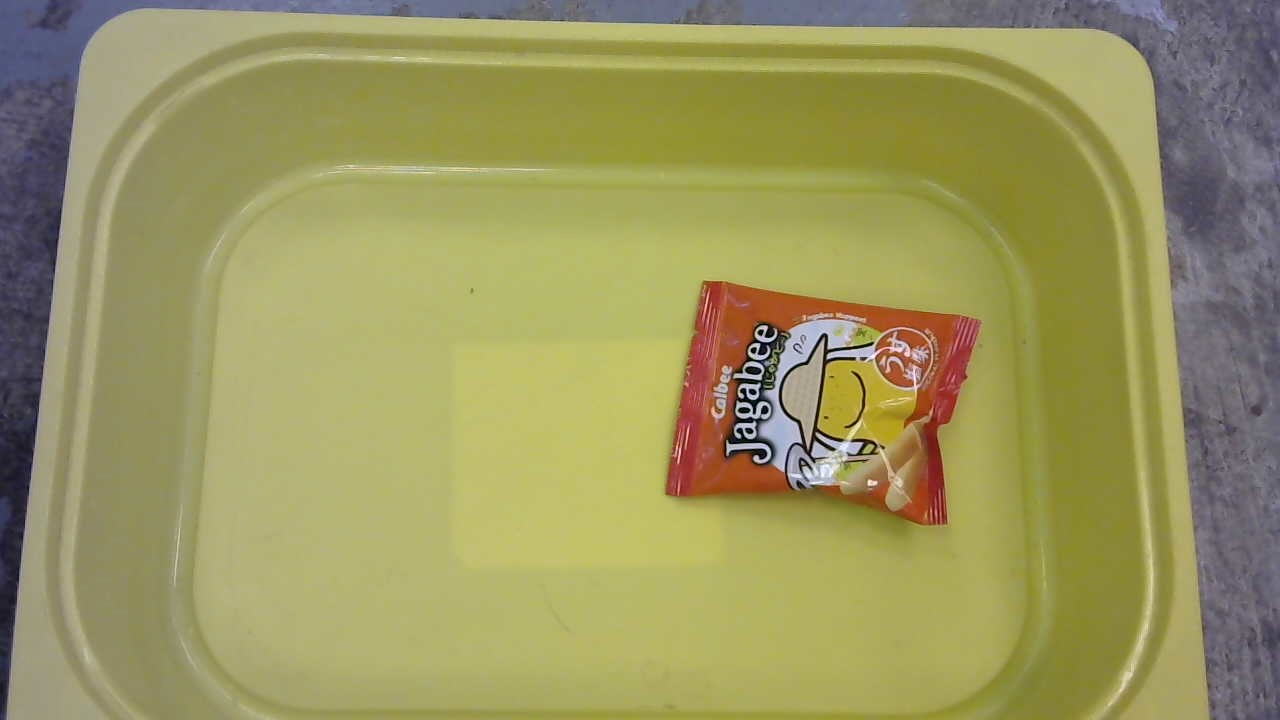JagabeeFarmer: (678, 272, 986, 531)
